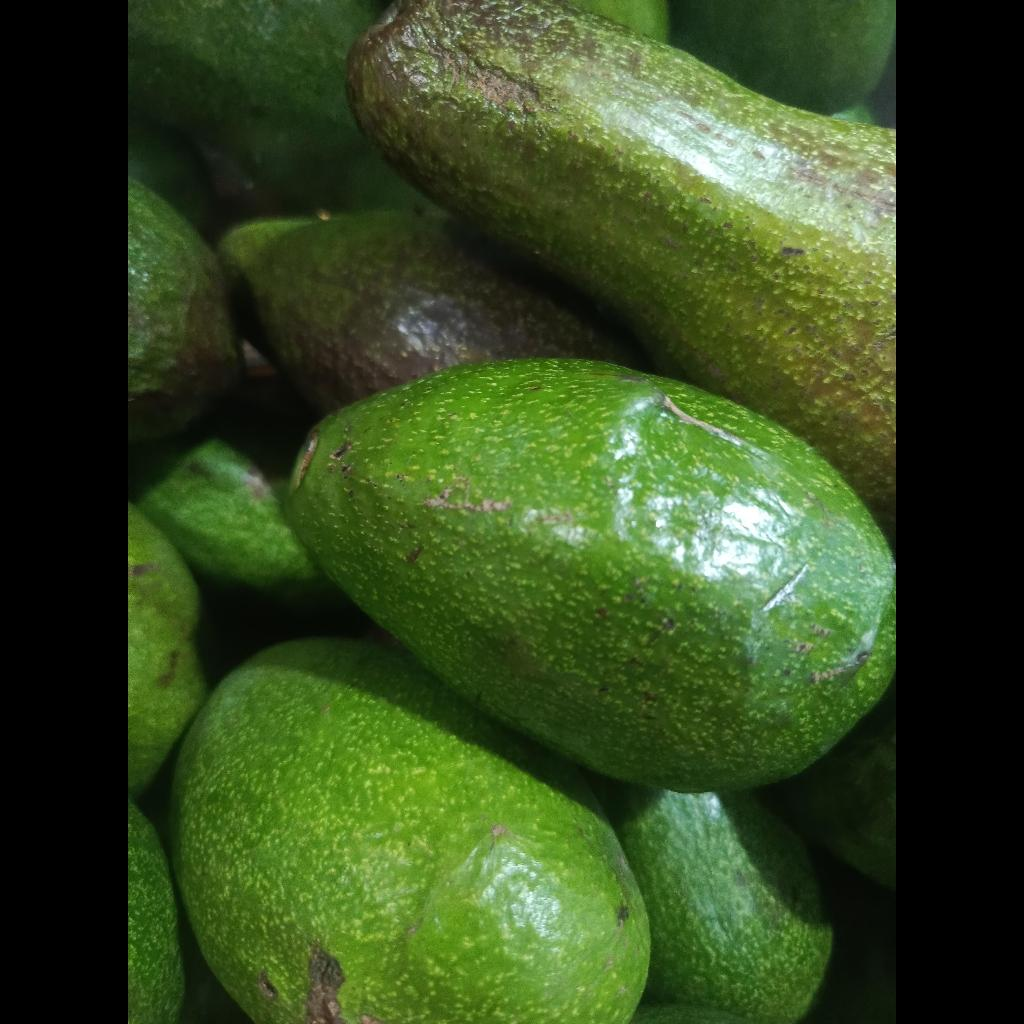antracnosis_fruto: (347, 0, 896, 536)
fruto_sano: (288, 360, 896, 791), (170, 637, 650, 1024)
